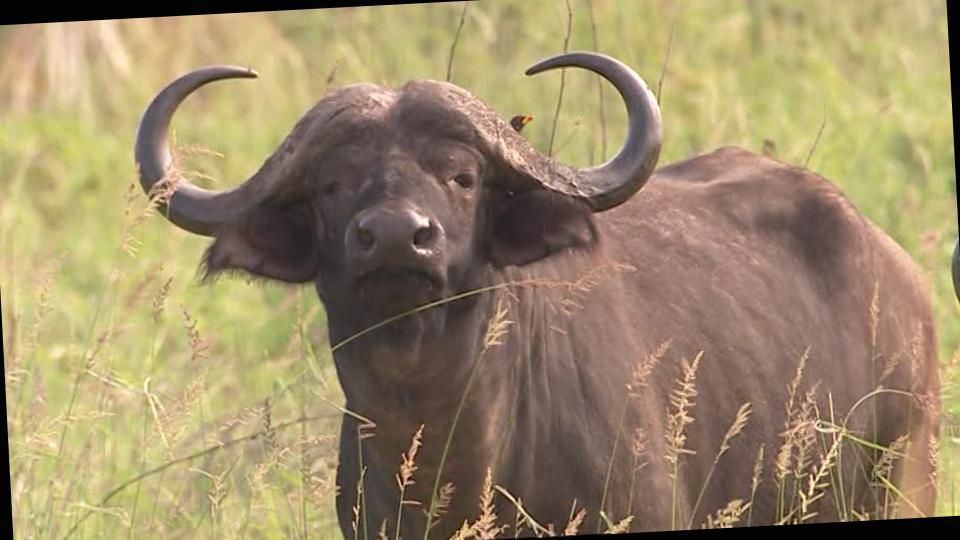Buffalo: (109, 9, 808, 540)
